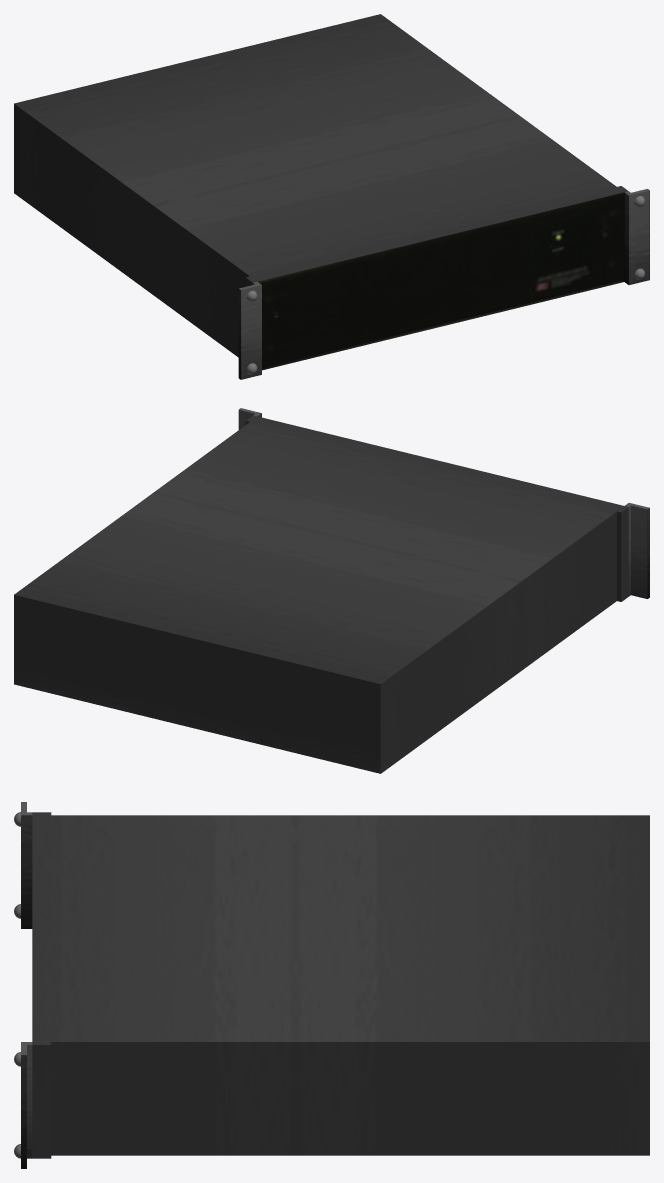
The model's file is chongqiji.obj.
3 views of the same model, one above another, from view 1: azimuth 30°, elevation 25°; view 2: azimuth 150°, elevation 25°; view 3: azimuth 270°, elevation 25° (orthographic). The views are drawn at different scales.
Visible parts, largest first — view 1: Box001; view 2: Box001; view 3: Box001.
Boxes of the visible parts, x1=… form: Box001: x1=14, y1=14, x2=649, y2=379; Box001: x1=14, y1=408, x2=649, y2=773; Box001: x1=14, y1=802, x2=649, y2=1168.
Bounding box in the file's own units: 29.33 × 6.15 × 31.15.
Materials: 1 (1 with a texture image).
